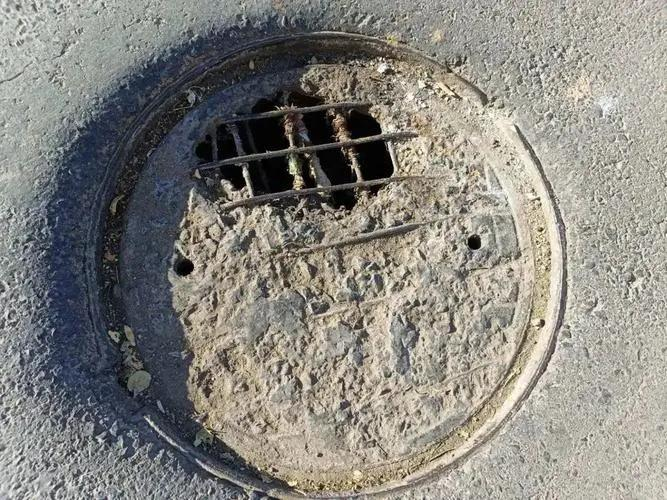wellcover: (68, 28, 544, 500)
